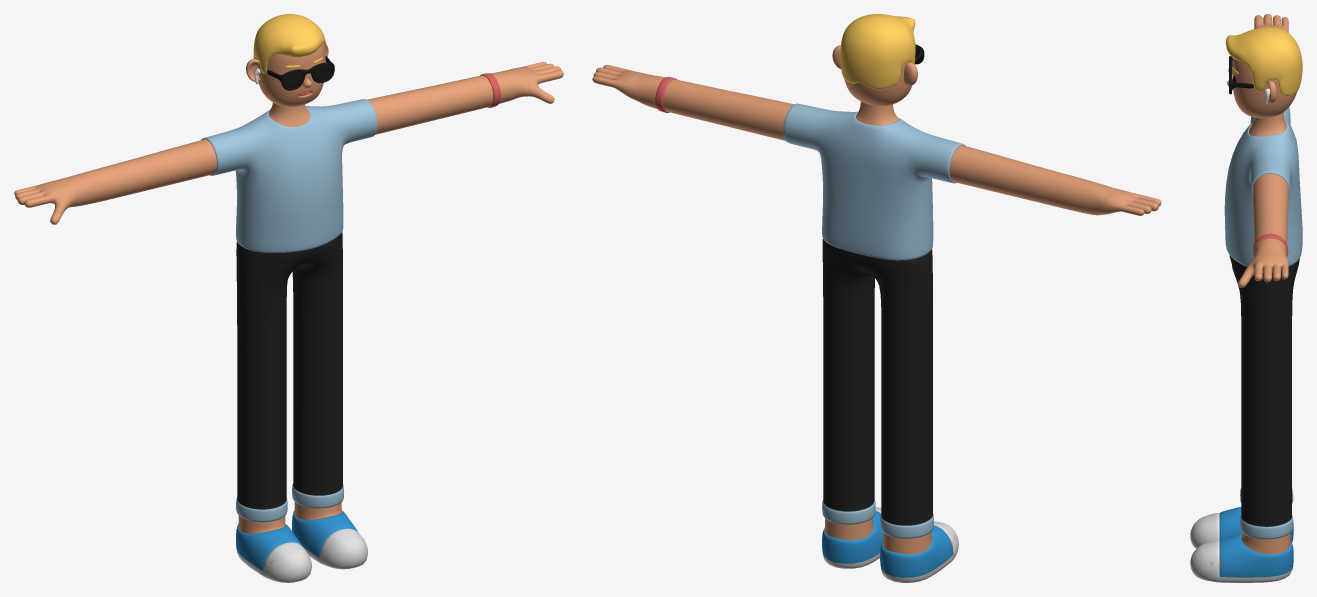
File: BOY 6.fbx
The picture shows the model from 3 angles, left to right: view 1: azimuth 30°, elevation 25°; view 2: azimuth 150°, elevation 25°; view 3: azimuth 270°, elevation 25°; orthographic projection. The views are drawn at different scales.
Parts seen in each view (by area): view 1: BOY 6_PANTS, BOY_BODY.006, BOY 6_SHIRT, BOY_6_SHOES.R, BOY_6_SHOES.L, BOY 6_HAIR, BOY 6_GLASSES; view 2: BOY 6_PANTS, BOY 6_SHIRT, BOY_BODY.006, BOY 6_HAIR, BOY_6_SHOES.R, BOY_6_SHOES.L; view 3: BOY 6_PANTS, BOY_BODY.006, BOY 6_SHIRT, BOY_6_SHOES.L, BOY 6_HAIR, BOY_6_SHOES.R, BOY 6_GLASSES, BOY 6_WRIST BAND.
Boxes of the visible parts, x1=… form: BOY 6_PANTS: x1=236, y1=232, x2=344, y2=522; BOY_BODY.006: x1=14, y1=42, x2=563, y2=565; BOY 6_SHIRT: x1=201, y1=99, x2=377, y2=252; BOY_6_SHOES.R: x1=236, y1=524, x2=311, y2=582; BOY_6_SHOES.L: x1=292, y1=510, x2=367, y2=569; BOY 6_HAIR: x1=253, y1=14, x2=325, y2=74; BOY 6_GLASSES: x1=267, y1=56, x2=334, y2=90; BOY 6_PANTS: x1=822, y1=239, x2=933, y2=538; BOY 6_SHIRT: x1=783, y1=103, x2=965, y2=260; BOY_BODY.006: x1=592, y1=45, x2=1161, y2=554; BOY 6_HAIR: x1=840, y1=14, x2=915, y2=89; BOY_6_SHOES.R: x1=880, y1=521, x2=958, y2=582; BOY_6_SHOES.L: x1=822, y1=507, x2=882, y2=568; BOY 6_PANTS: x1=1229, y1=255, x2=1299, y2=539; BOY_BODY.006: x1=1209, y1=14, x2=1296, y2=570; BOY 6_SHIRT: x1=1224, y1=107, x2=1302, y2=266; BOY_6_SHOES.L: x1=1190, y1=534, x2=1293, y2=582; BOY 6_HAIR: x1=1226, y1=27, x2=1302, y2=95; BOY_6_SHOES.R: x1=1190, y1=507, x2=1293, y2=548; BOY 6_GLASSES: x1=1228, y1=56, x2=1253, y2=94; BOY 6_WRIST BAND: x1=1253, y1=233, x2=1288, y2=256.
Bounding box in the file's own units: 205 × 191 × 36.9.
Materials: 12 (9 with a texture image).
